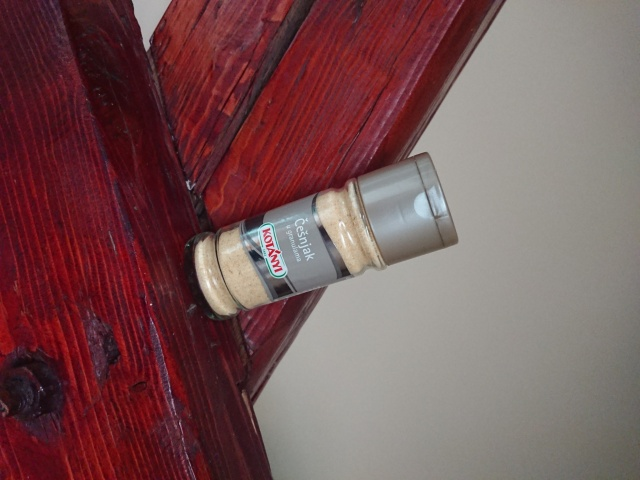Kotanyi Garlic Granules 70g: (179, 149, 461, 324)
